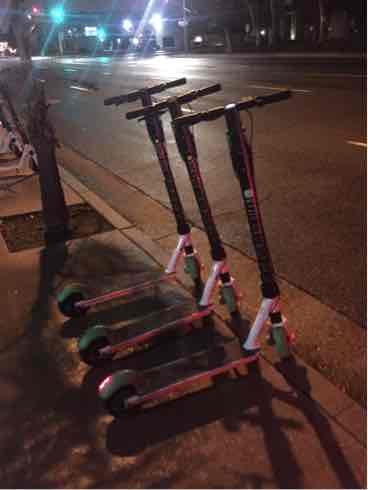too close: (256, 304, 331, 393), (207, 269, 257, 340), (158, 242, 209, 294)
